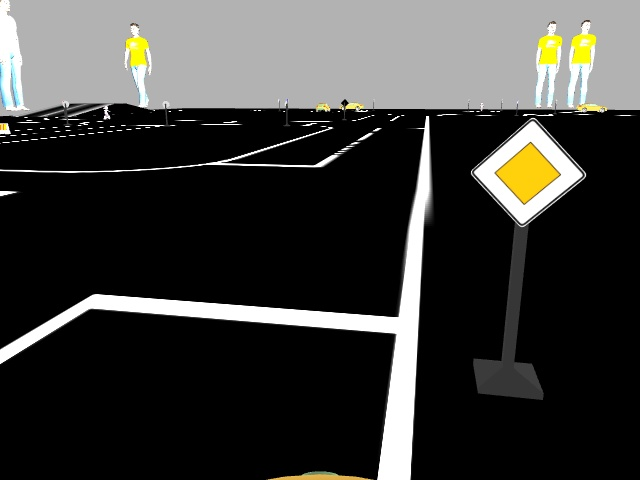Priority: (480, 116, 580, 220)
